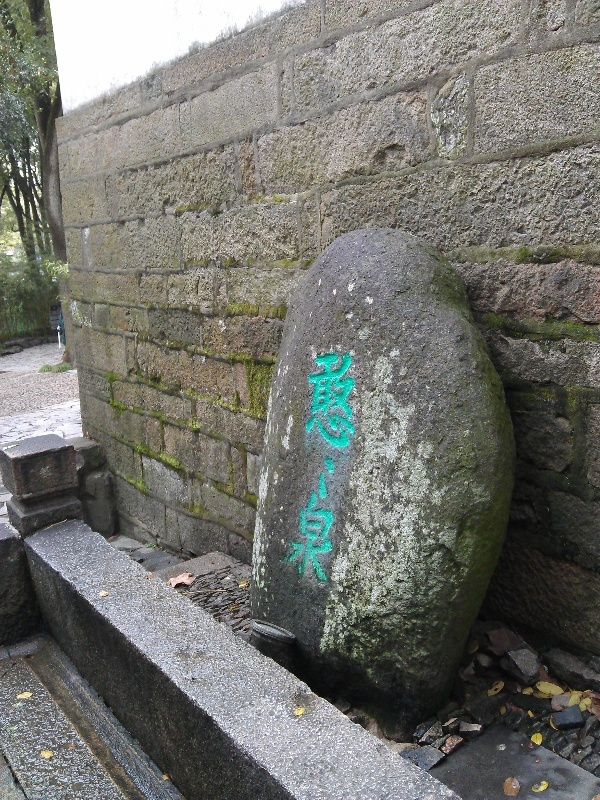text: (321, 350, 336, 588), (337, 350, 352, 588), (353, 350, 368, 588), (311, 350, 320, 588), (369, 350, 370, 588)
